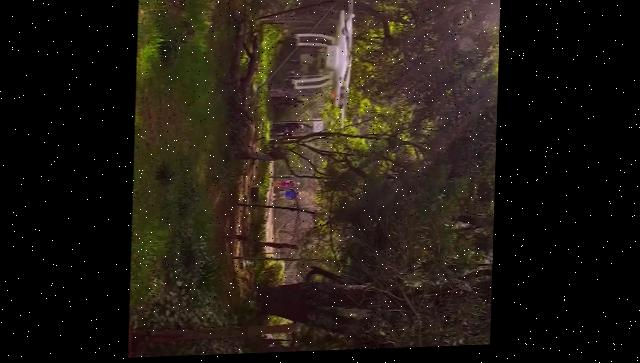drone: (290, 0, 357, 127)
